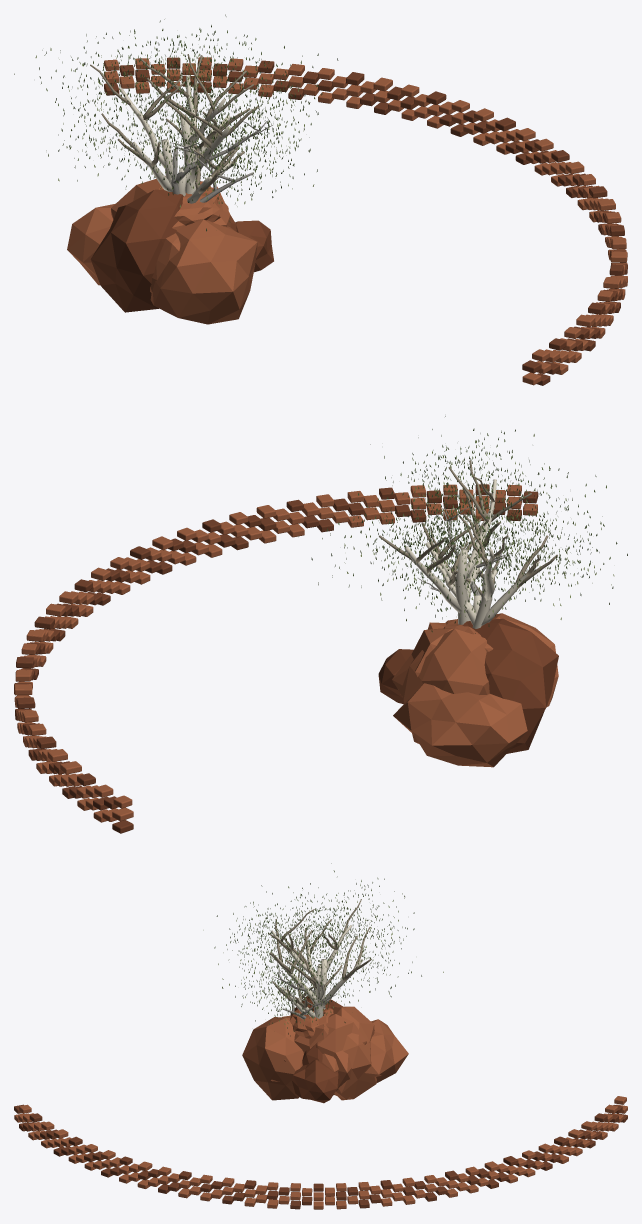
Rendered from nature.glb.
3 renders of one model, top to bottom at view 1: azimuth 30°, elevation 25°; view 2: azimuth 150°, elevation 25°; view 3: azimuth 270°, elevation 25°, orthographic. The views are drawn at different scales.
Visible parts, largest first — view 1: KEEP Outcrop, KEEP DamWall, KEEP GumC, KEEP GumA, KEEP GumB, KEEP DeadTree; view 2: KEEP DamWall, KEEP Outcrop, KEEP GumC, KEEP GumA, KEEP GumB; view 3: KEEP DamWall, KEEP Outcrop, KEEP GumC, KEEP GumA, KEEP GumB.
Boxes of the visible parts, x1=… form: KEEP Outcrop: x1=67, y1=176, x2=273, y2=324; KEEP DamWall: x1=104, y1=57, x2=627, y2=385; KEEP GumC: x1=62, y1=14, x2=338, y2=193; KEEP GumA: x1=14, y1=32, x2=307, y2=191; KEEP GumB: x1=94, y1=80, x2=317, y2=231; KEEP DeadTree: x1=170, y1=121, x2=273, y2=202; KEEP DamWall: x1=14, y1=484, x2=538, y2=833; KEEP Outcrop: x1=378, y1=613, x2=558, y2=767; KEEP GumC: x1=298, y1=416, x2=606, y2=624; KEEP GumA: x1=357, y1=475, x2=627, y2=628; KEEP GumB: x1=365, y1=499, x2=559, y2=633; KEEP DamWall: x1=14, y1=1096, x2=627, y2=1209; KEEP Outcrop: x1=242, y1=995, x2=408, y2=1103; KEEP GumC: x1=203, y1=883, x2=443, y2=1018; KEEP GumA: x1=226, y1=863, x2=406, y2=1009; KEEP GumB: x1=222, y1=938, x2=387, y2=1036.
Size of the model in its own units: 24.49 by 12.92 by 34.1.
